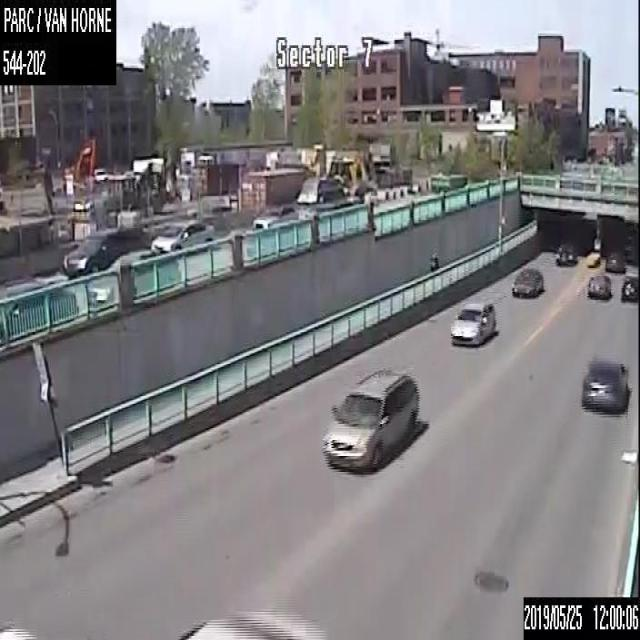pedestrian: (429, 246, 438, 272)
vehicle: (322, 366, 419, 475), (85, 247, 180, 312), (173, 605, 331, 639), (0, 277, 78, 343), (63, 225, 150, 276), (580, 358, 629, 412), (151, 218, 214, 254), (450, 296, 494, 347), (252, 203, 298, 230), (511, 266, 544, 298), (0, 621, 37, 638), (619, 274, 639, 302), (587, 275, 611, 298), (604, 250, 625, 272), (554, 243, 574, 265), (0, 634, 11, 638)
